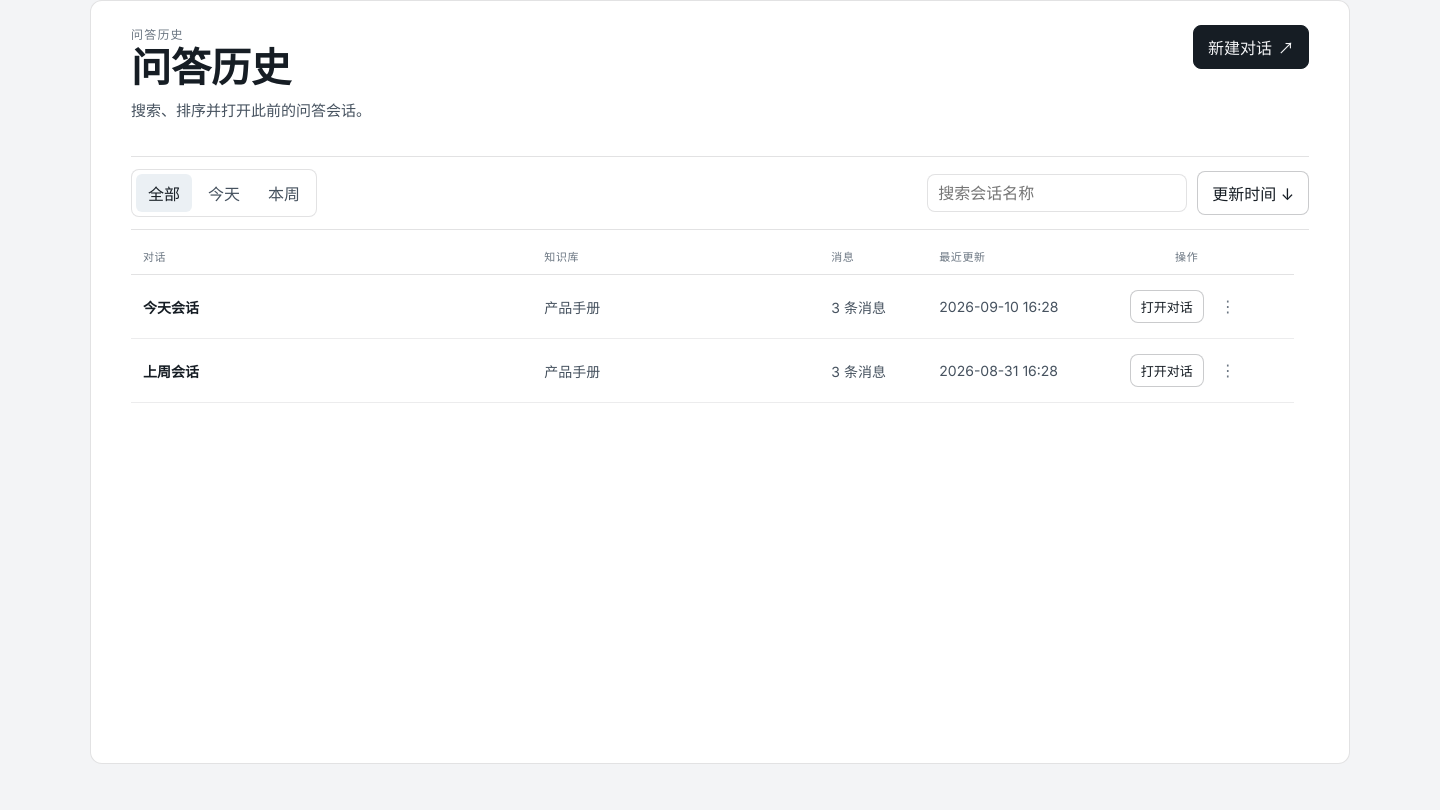
Scenario: 问答历史页（服务端搜索/排序/分页） › 时间范围分类「今天/本周」：按 last_message_at 前端筛选当前列表
expect the link "今天会话" is shown: met, box left=143, top=298, right=199, bottom=316
expect the link "上周会话" is shown: met, box left=143, top=362, right=199, bottom=380
// 「今天」只保留今天更新的会话
Click the button "今天".
click(224, 193)  # box left=196, top=174, right=252, bottom=212
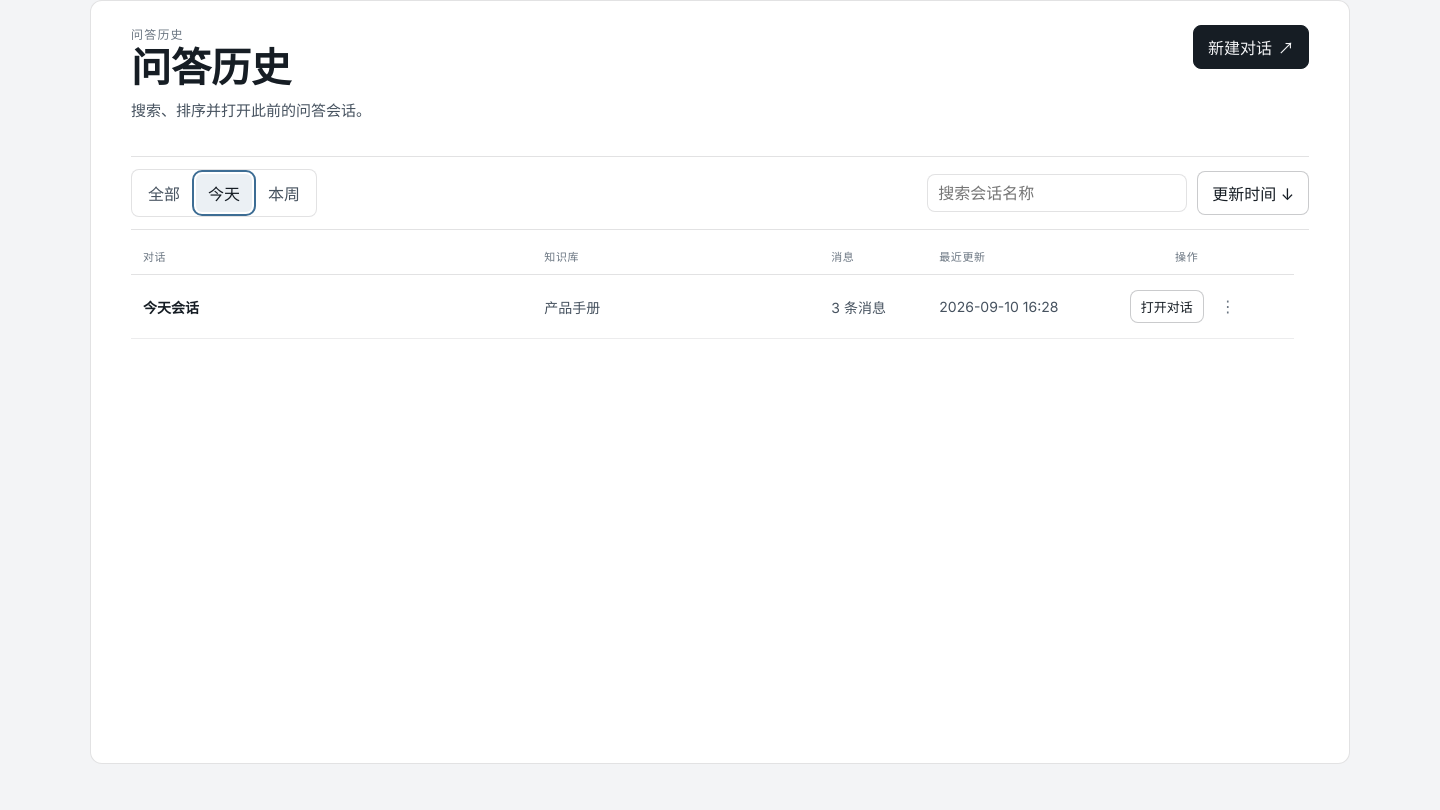
expect the link "今天会话" is shown: met, box left=143, top=298, right=199, bottom=316
expect the link "上周会话" is gone: met
